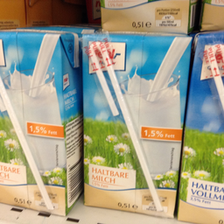milk: (79, 34, 182, 224), (1, 28, 85, 217), (179, 33, 223, 222)
